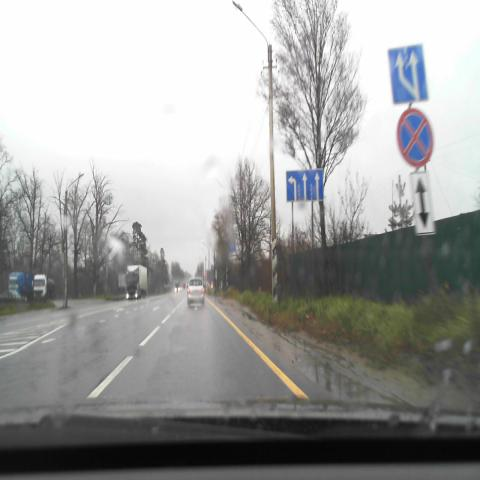8_2_4: (410, 172, 435, 235)
